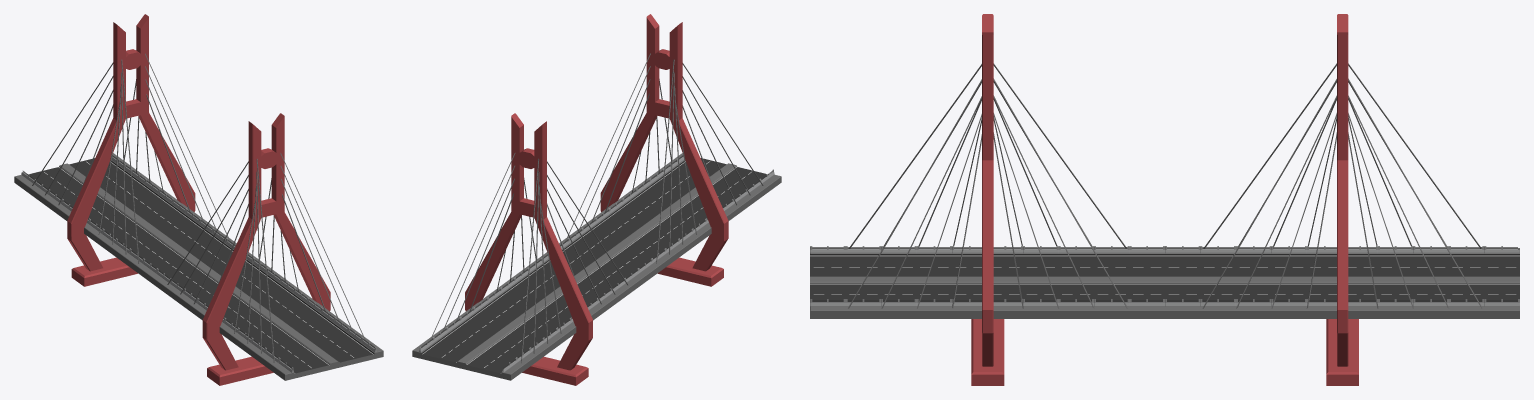
The picture shows the model from 3 angles, left to right: view 1: azimuth 30°, elevation 25°; view 2: azimuth 150°, elevation 25°; view 3: azimuth 270°, elevation 25°; orthographic projection. The views are drawn at different scales.
Visible parts, largest first — view 1: road_c_03.003; view 2: road_c_03.003; view 3: road_c_03.003.
Boxes of the visible parts, <box> form: road_c_03.003: <box>14,14,383,385</box>; road_c_03.003: <box>412,14,781,385</box>; road_c_03.003: <box>810,14,1519,385</box>.
Bounding box in the file's own units: 26.51 × 50.94 × 100.
1 material, 1 textured.
